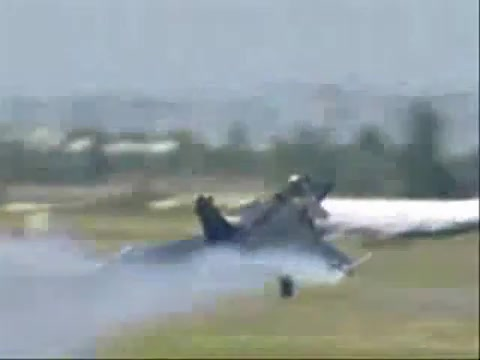aeroplane: (121, 175, 372, 303)
